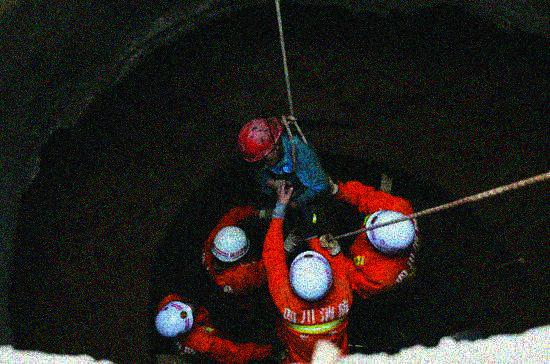helmet: (358, 206, 417, 259), (286, 245, 334, 305), (235, 117, 286, 168), (207, 224, 254, 273), (153, 296, 201, 341)
